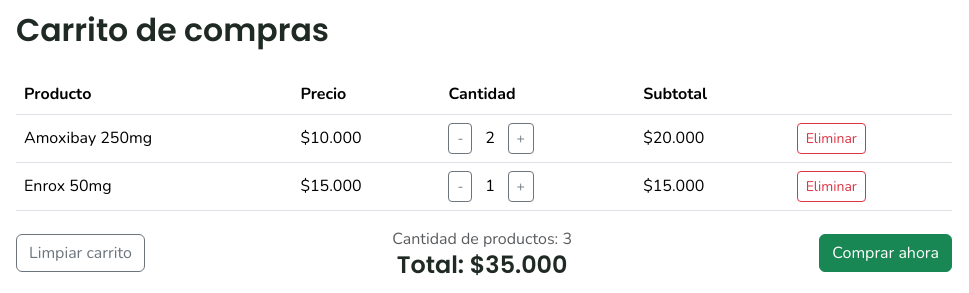
it: Carrito (página) › Eliminar quita solo ese producto
Click the button "Eliminar" in the row of "Amoxibay 250mg" at (831, 138), box [797, 123, 866, 154]
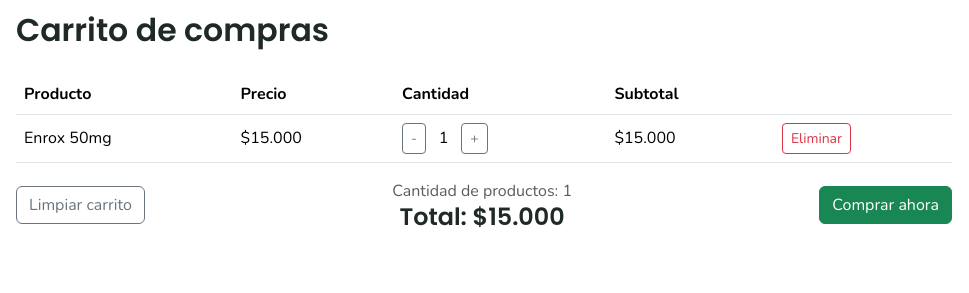
Expected: the text "Enrox 50mg" is shown, [16, 114, 233, 162]
Now the text "Amoxibay 250mg" is gone
Now the heading with test id "total-carrito" reads "Total: $15.000", box [392, 203, 572, 232]
